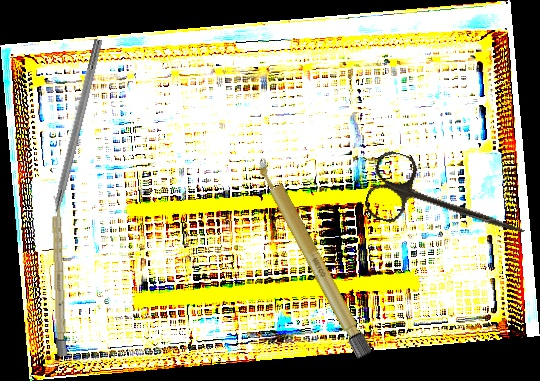Hook Surgical: (43, 38, 104, 236)
Iris Scissors: (361, 147, 536, 262)
Scalpel Handle: (252, 152, 375, 362), (51, 195, 67, 357)
